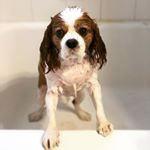puppy: (27, 4, 117, 150)
